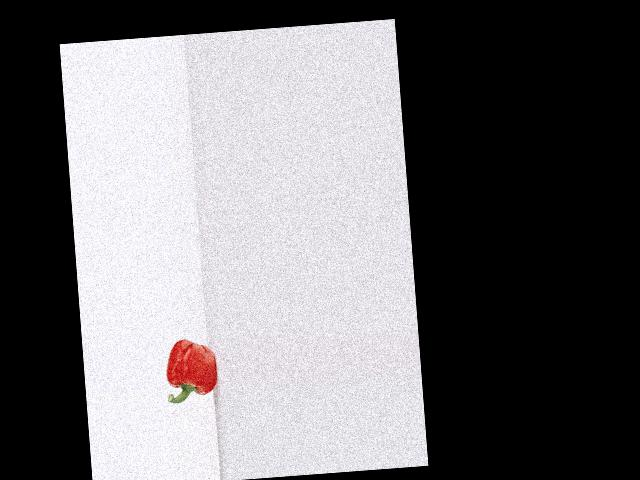bell_pepper: (161, 334, 221, 410)
